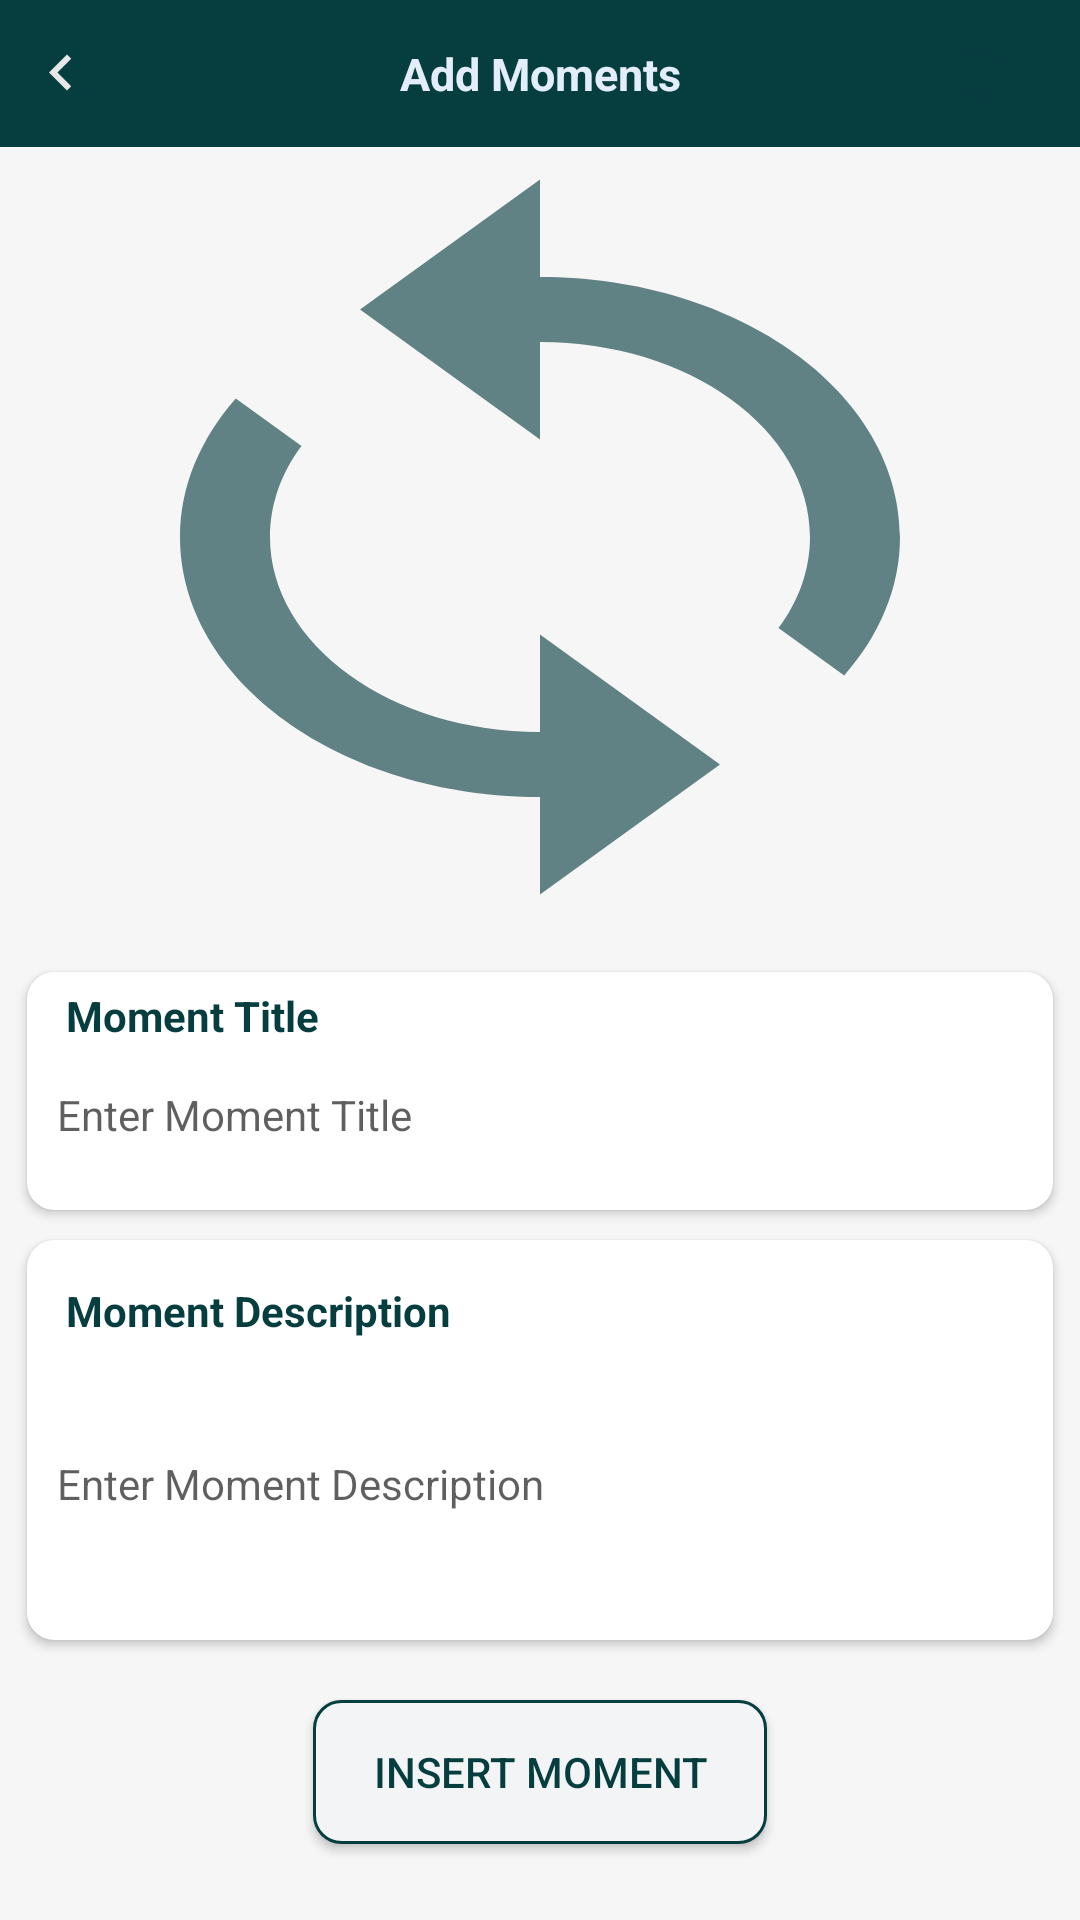

Icon click points for this 1080w x 1920h phone screenshot, format (x,y):
keyboard arrow left: (60,72)
